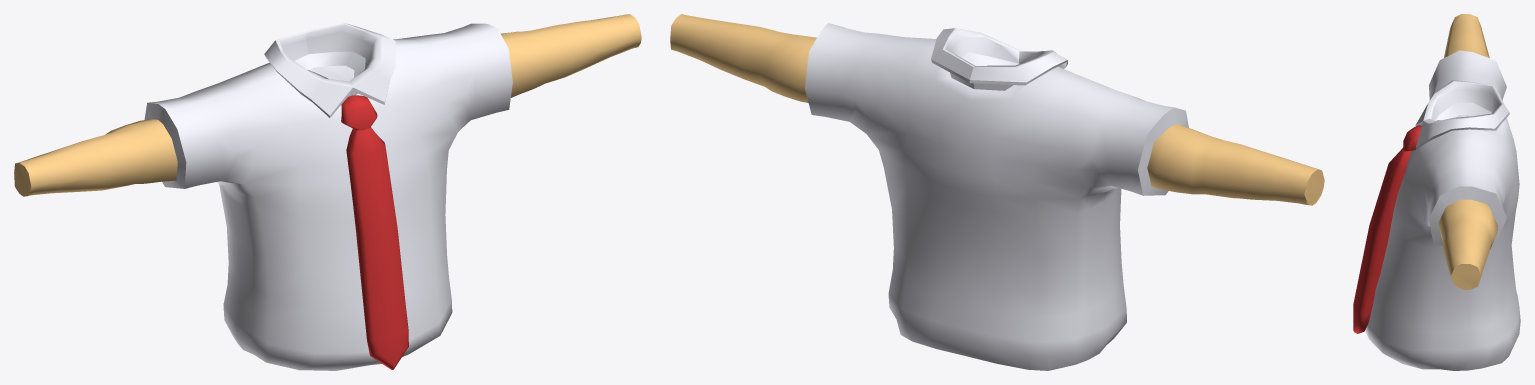
The model's file is Torso_02_02.fbx.
The picture shows the model from 3 angles, left to right: view 1: azimuth 30°, elevation 25°; view 2: azimuth 150°, elevation 25°; view 3: azimuth 270°, elevation 25°; orthographic projection. The views are drawn at different scales.
Visible parts, largest first — view 1: Torso_02_02; view 2: Torso_02_02; view 3: Torso_02_02.
Boxes of the visible parts, box(x1,y1,x2,y2) form: Torso_02_02: box(14, 14, 641, 370); Torso_02_02: box(670, 14, 1324, 370); Torso_02_02: box(1353, 14, 1520, 370).
Size of the model in its own units: 118 by 52.8 by 33.36.
